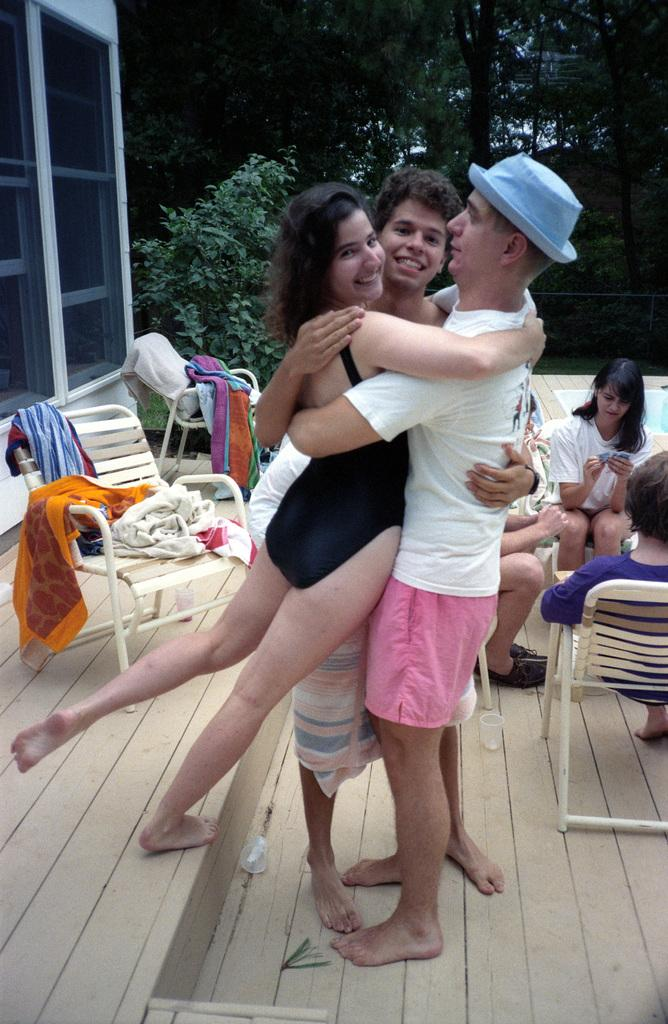Hat: (473, 149, 591, 267)
